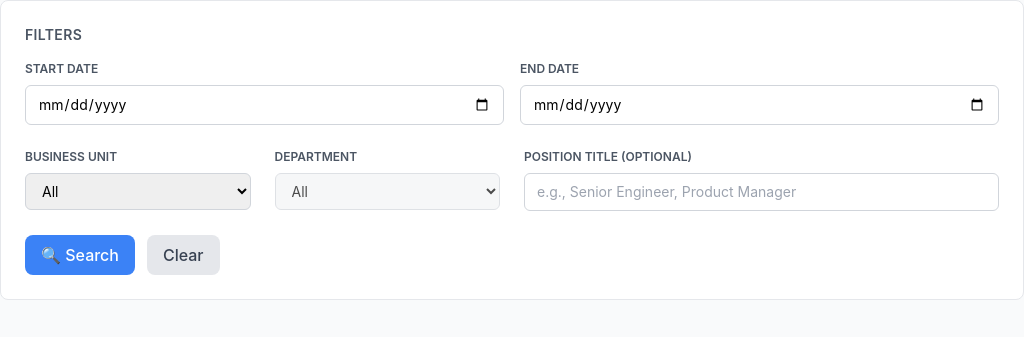
HistoricalTabQueryForm › Validation › should show error when end date is missing
Type "2026-08-01" into the date field labelled "START DATE".
click(264, 105); type("2026-08-01")  # box left=25, top=85, right=504, bottom=125
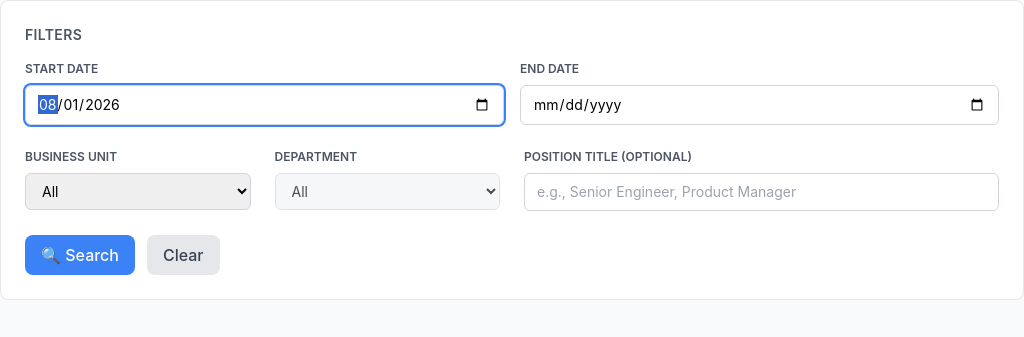
Click the button "🔍 Search".
click(80, 255)  # box left=25, top=235, right=135, bottom=275
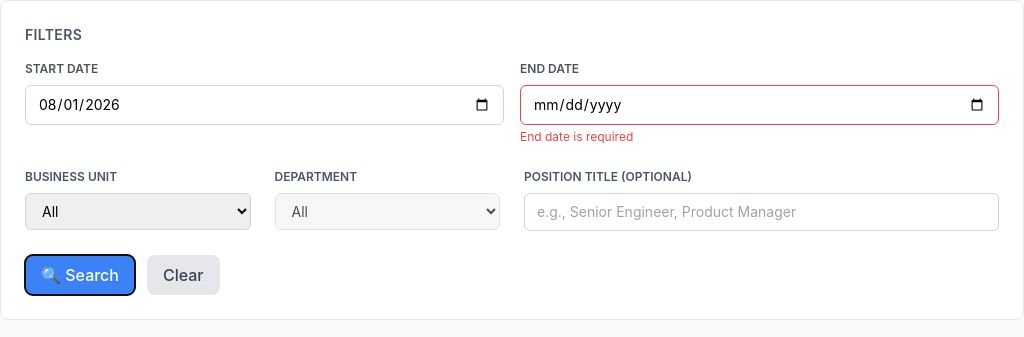
Result: the text "End date is required" is shown at left=520, top=129, right=633, bottom=144
